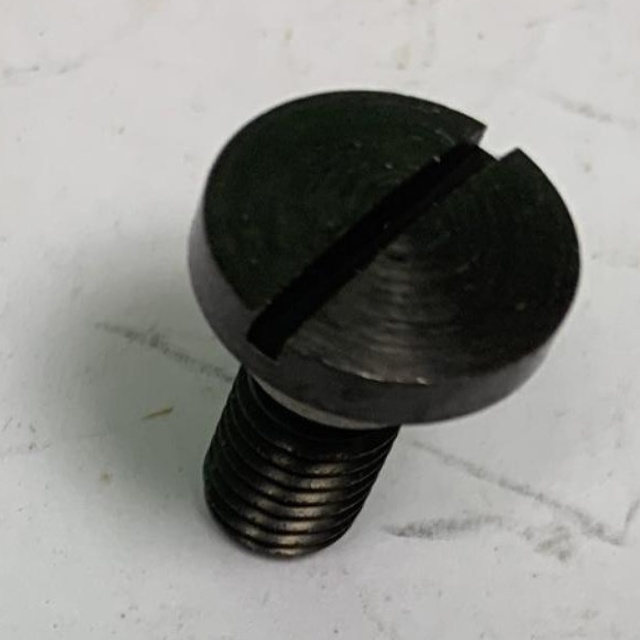duz: (191, 88, 587, 421)
